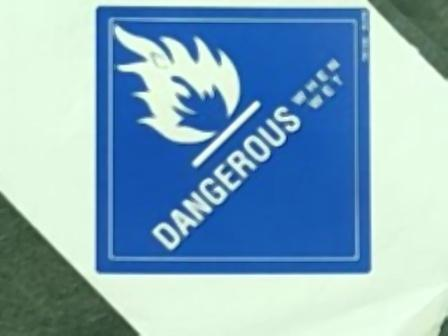dangerous-when-wet: (96, 6, 371, 272)
